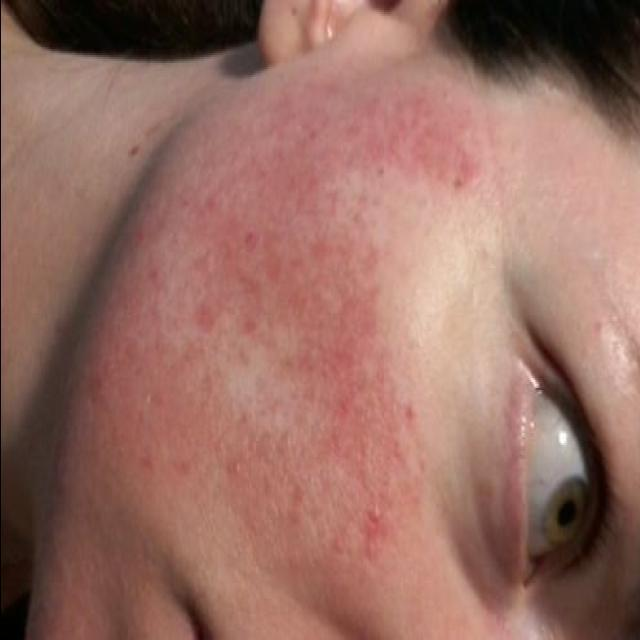Rosacea: (192, 136, 378, 381)
